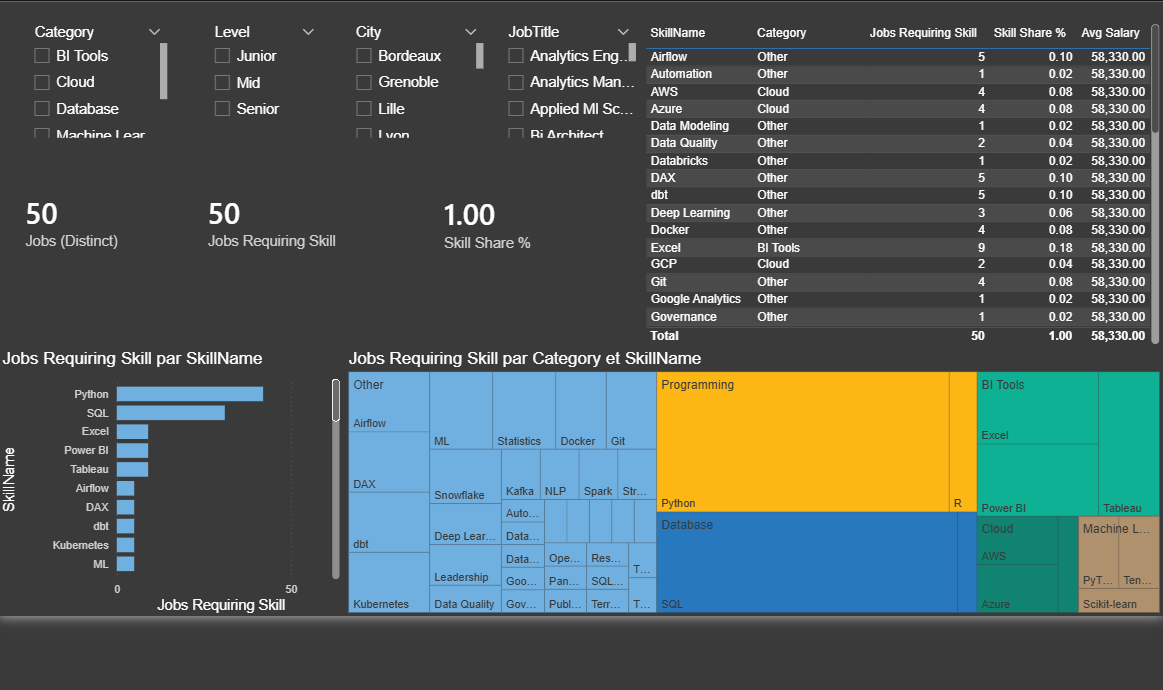

The page's visual inventory and layout, read from the dashboard file:
{"tool":"powerbi","page":{"name":"03-Compétences (Skills)","canvas":[1280,720],"ordinal":2},"visuals":[{"type":"slicer","fields":{"Values":["DimExperience.Level"]},"box":[225,64.5,134.5,134.5],"z":0},{"type":"slicer","fields":{"Values":["DimLocation.City"]},"box":[380.1,64.5,157.8,134.5],"z":1},{"type":"cardVisual","fields":{"Data":["Measures (2).Jobs (Distinct)"]},"box":[0,209.9,200.3,149.6],"z":2},{"type":"cardVisual","fields":{"Data":["Measures (2).Jobs Requiring Skill"]},"box":[200.3,209.9,259.3,149.6],"z":3},{"type":"cardVisual","fields":{"Data":["Measures (2).Skill Share %"]},"box":[459.7,211.3,236,149.6],"z":4},{"type":"barChart","fields":{"Category":["DimSkills.SkillName"],"Y":["Measures (2).Jobs Requiring Skill"]},"box":[0,425.4,380.1,295],"z":5},{"type":"slicer","fields":{"Values":["DimSkills.Category"]},"box":[27.4,64.5,163.3,134.5],"z":6},{"type":"slicer","fields":{"Values":["JobsData.JobTitle"]},"box":[547.5,64.5,157.8,134.5],"z":7},{"type":"treemap","fields":{"Group":["DimSkills.Category"],"Details":["DimSkills.SkillName"],"Values":["Measures (2).Jobs Requiring Skill"]},"box":[380.1,425.4,900.2,295],"z":8},{"type":"tableEx","fields":{"Values":["DimSkills.SkillName","DimSkills.Category","Measures (2).Jobs Requiring Skill","Measures (2).Skill Share %","Measures (2).Avg Salary"]},"box":[705.3,64.5,575,360.9],"z":9}]}

Visuals, with their boxes on the page's 1280x720 design canvas (x1, y1, x2, y2). These are canvas units, not pixel positions in the 1163x690 screenshot, which may show the page scaled, cropped or inside an application window:
slicer - DimExperience.Level: {"x1": 225, "y1": 64, "x2": 360, "y2": 199}
slicer - DimLocation.City: {"x1": 380, "y1": 64, "x2": 538, "y2": 199}
cardVisual - Measures (2).Jobs (Distinct): {"x1": 0, "y1": 210, "x2": 200, "y2": 360}
cardVisual - Measures (2).Jobs Requiring Skill: {"x1": 200, "y1": 210, "x2": 460, "y2": 360}
cardVisual - Measures (2).Skill Share %: {"x1": 460, "y1": 211, "x2": 696, "y2": 361}
barChart - DimSkills.SkillName x Measures (2).Jobs Requiring Skill: {"x1": 0, "y1": 425, "x2": 380, "y2": 720}
slicer - DimSkills.Category: {"x1": 27, "y1": 64, "x2": 191, "y2": 199}
slicer - JobsData.JobTitle: {"x1": 548, "y1": 64, "x2": 705, "y2": 199}
treemap - DimSkills.Category x DimSkills.SkillName: {"x1": 380, "y1": 425, "x2": 1280, "y2": 720}
tableEx - DimSkills.SkillName x DimSkills.Category: {"x1": 705, "y1": 64, "x2": 1280, "y2": 425}
